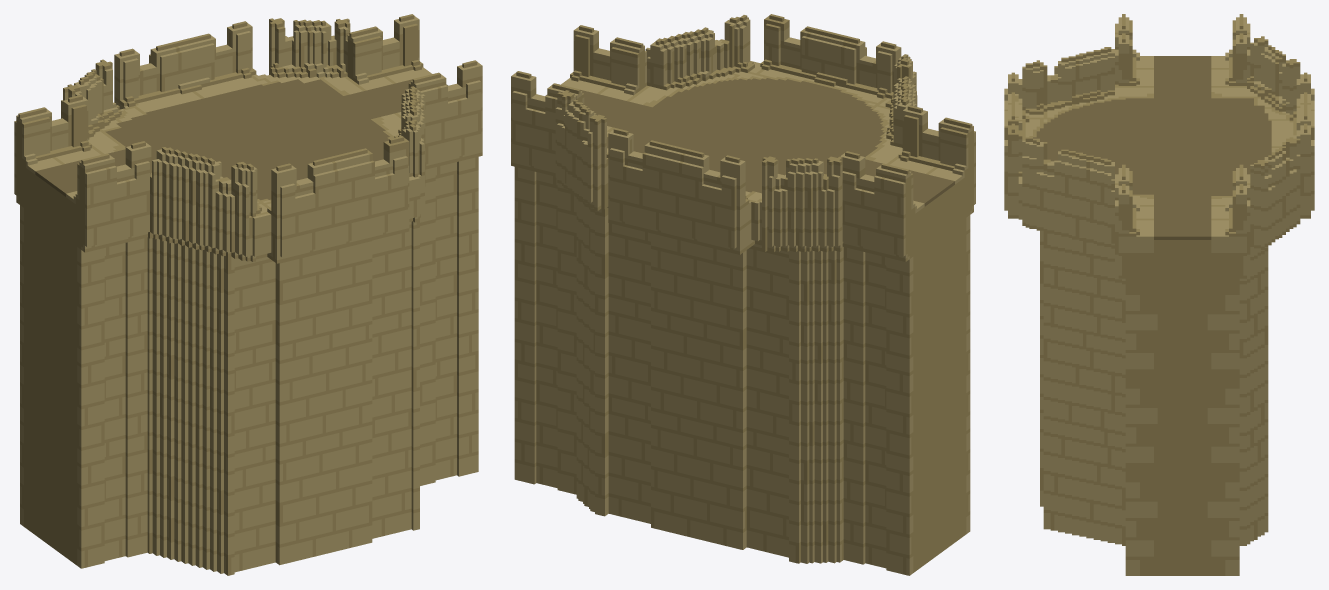
File: wall_trebuchet.fbx
3 views of the same model, side by side, from view 1: azimuth 30°, elevation 25°; view 2: azimuth 150°, elevation 25°; view 3: azimuth 270°, elevation 25° (orthographic). The views are drawn at different scales.
Parts seen in each view (by area): view 1: Untitled; view 2: Untitled; view 3: Untitled.
Part boxes in pixels (left/top/right/bottom): Untitled: left=14, top=14, right=482, bottom=575; Untitled: left=511, top=14, right=975, bottom=575; Untitled: left=1004, top=14, right=1314, bottom=575.
Bounding box in the file's own units: 1200 × 870 × 1190.
